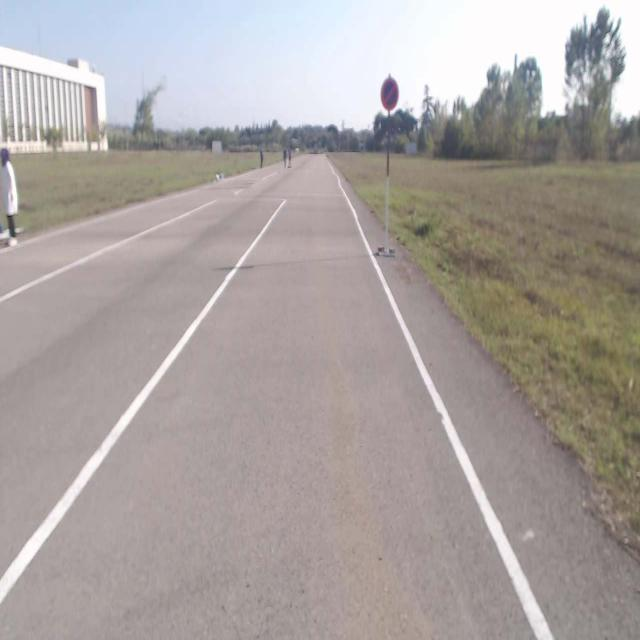parkyasak: (381, 78, 399, 110)
